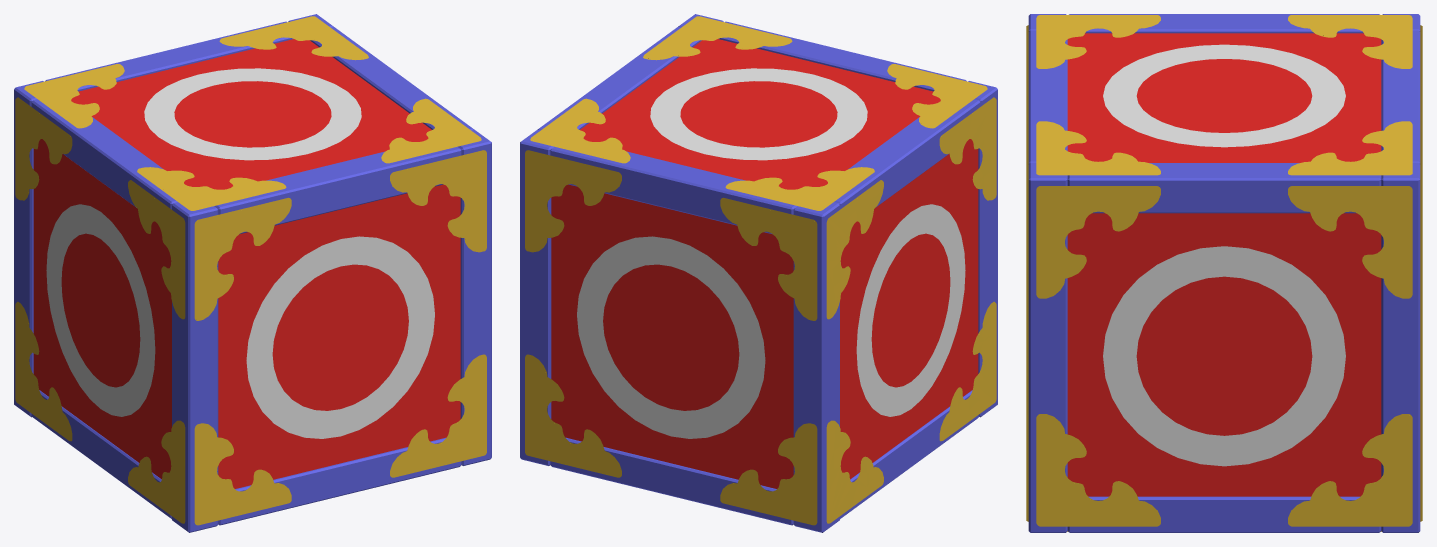
Rendered from SM_Framed_Box.fbx.
3 views of the same model, side by side, from view 1: azimuth 30°, elevation 25°; view 2: azimuth 150°, elevation 25°; view 3: azimuth 270°, elevation 25° (orthographic). The views are drawn at different scales.
Parts seen in each view (by area): view 1: 立方体, Cube.014, 平面.002, 円.001, 平面.004, 平面.001, 円.002, 円; view 2: 立方体, Cube.014, 平面.002, 円.001, 平面.004, 平面.001, 円.002, 円; view 3: 立方体, Cube.014, 平面.004, 円.002, 平面.001, 円, 平面.002.
Boxes of the visible parts, bbox=[...] form: 立方体: bbox=[33, 39, 460, 488]; Cube.014: bbox=[14, 14, 491, 532]; 平面.002: bbox=[194, 150, 486, 525]; 円.001: bbox=[246, 236, 434, 438]; 平面.004: bbox=[15, 97, 185, 523]; 平面.001: bbox=[24, 16, 481, 210]; 円.002: bbox=[46, 204, 155, 416]; 円: bbox=[144, 68, 361, 160]; 立方体: bbox=[551, 39, 978, 488]; Cube.014: bbox=[520, 14, 997, 532]; 平面.002: bbox=[525, 150, 817, 525]; 円.001: bbox=[577, 236, 765, 438]; 平面.004: bbox=[826, 97, 996, 523]; 平面.001: bbox=[530, 16, 987, 210]; 円.002: bbox=[856, 204, 965, 416]; 円: bbox=[650, 68, 867, 160]; 立方体: bbox=[1067, 33, 1381, 496]; Cube.014: bbox=[1028, 14, 1420, 532]; 平面.004: bbox=[1036, 186, 1412, 526]; 円.002: bbox=[1103, 246, 1345, 466]; 平面.001: bbox=[1036, 15, 1412, 531]; 円: bbox=[1103, 44, 1345, 147]; 平面.002: bbox=[1026, 25, 1422, 521].
Bounding box in the file's own units: 101 × 101 × 101.
